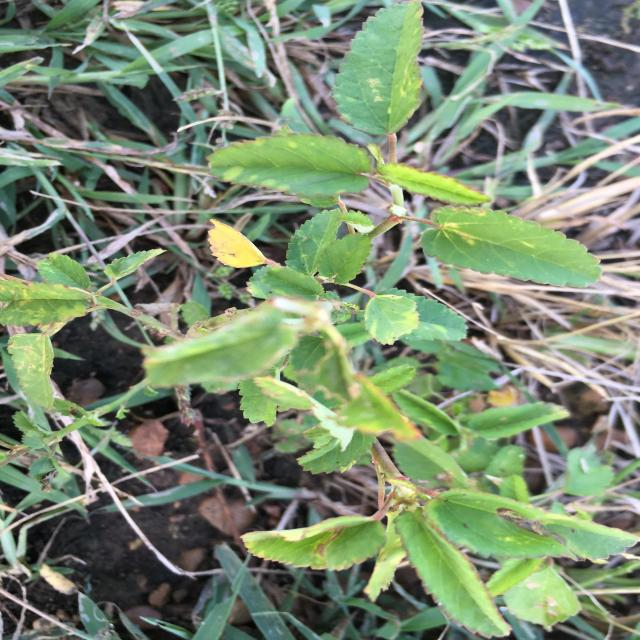PricklySida: (0, 0, 638, 638)
